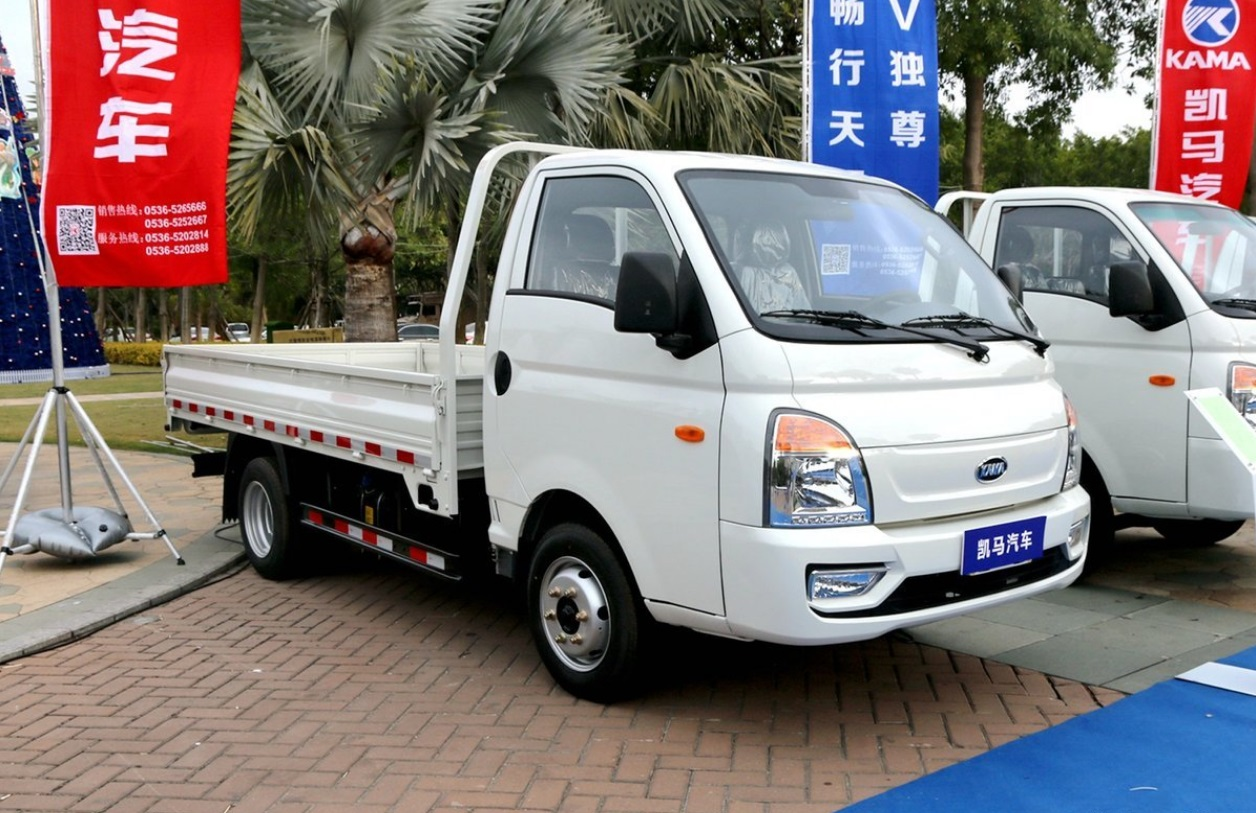truck: (153, 132, 1099, 721)
